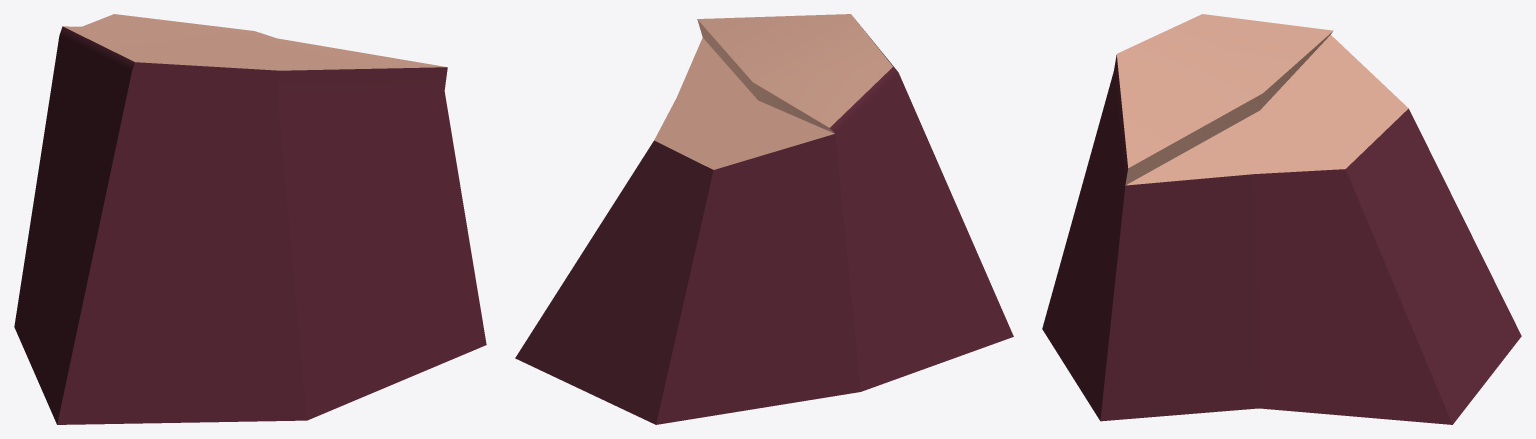
File: stump01.fbx
The picture shows the model from 3 angles, left to right: view 1: azimuth 30°, elevation 25°; view 2: azimuth 150°, elevation 25°; view 3: azimuth 270°, elevation 25°; orthographic projection. The views are drawn at different scales.
Parts seen in each view (by area): view 1: pCylinder1; view 2: pCylinder1; view 3: pCylinder1.
Part boxes in pixels (box(x1,y1,x2,y2)): pCylinder1: box(14, 14, 486, 424); pCylinder1: box(515, 14, 1013, 424); pCylinder1: box(1042, 14, 1521, 424).
Bounding box in the file's own units: 2.22 × 1.62 × 2.51.
